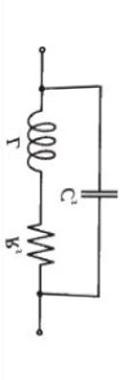inductor: (19, 101, 56, 181)
